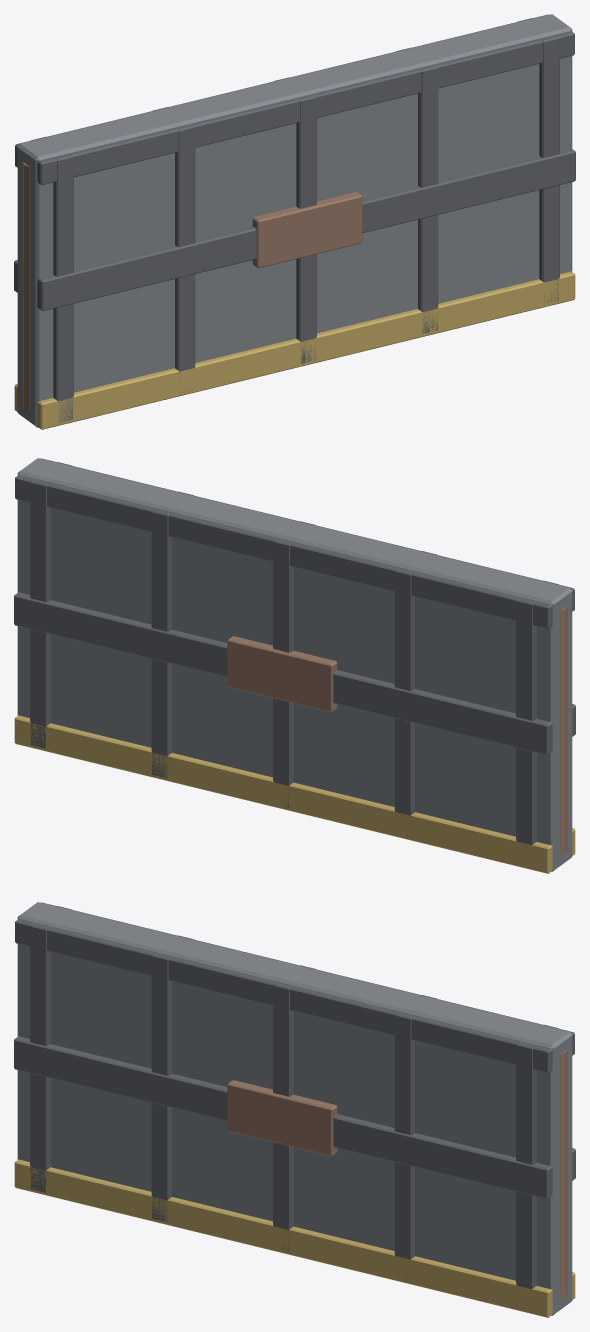
The model's file is oil_blastgate.glb.
The picture shows the model from 3 angles, top to bottom: view 1: azimuth 30°, elevation 25°; view 2: azimuth 150°, elevation 25°; view 3: azimuth 330°, elevation 25°; orthographic projection.
Visible parts, largest first — view 1: DoorCore, BottomBumper, CrossBarMid, CrossBarTop, LockPlate, Rib_-3.8, Rib_1.9, Rib_3.8, Rib_-1.9, Rib_0.0, Piston_-4.05; view 2: DoorCore, BottomBumper, CrossBarMid, CrossBarTop, LockPlate, Rib_3.8, Rib_1.9, Rib_-3.8, Rib_-1.9, Rib_0.0, Piston_-4.05; view 3: DoorCore, BottomBumper, CrossBarMid, CrossBarTop, LockPlate, Rib_-3.8, Rib_-1.9, Rib_3.8, Rib_1.9, Rib_0.0, Piston_4.05.
Part boxes in pixels (bbox=[...]): DoorCore: bbox=[17, 14, 572, 427]; BottomBumper: bbox=[14, 271, 575, 429]; CrossBarMid: bbox=[14, 148, 575, 311]; CrossBarTop: bbox=[15, 14, 574, 185]; LockPlate: bbox=[252, 192, 362, 268]; Rib_-3.8: bbox=[31, 136, 73, 422]; Rib_1.9: bbox=[396, 47, 438, 333]; Rib_3.8: bbox=[517, 18, 559, 304]; Rib_-1.9: bbox=[153, 107, 195, 390]; Rib_0.0: bbox=[274, 77, 316, 363]; Piston_-4.05: bbox=[22, 162, 29, 411]; DoorCore: bbox=[17, 458, 572, 871]; BottomBumper: bbox=[14, 715, 575, 873]; CrossBarMid: bbox=[14, 592, 575, 755]; CrossBarTop: bbox=[15, 458, 574, 629]; LockPlate: bbox=[227, 636, 337, 712]; Rib_3.8: bbox=[30, 462, 72, 748]; Rib_1.9: bbox=[151, 491, 193, 777]; Rib_-3.8: bbox=[516, 580, 558, 844]; Rib_-1.9: bbox=[394, 551, 436, 836]; Rib_0.0: bbox=[273, 521, 315, 807]; Piston_-4.05: bbox=[560, 606, 567, 855]; DoorCore: bbox=[17, 902, 572, 1315]; BottomBumper: bbox=[14, 1159, 575, 1317]; CrossBarMid: bbox=[14, 1036, 575, 1199]; CrossBarTop: bbox=[15, 902, 574, 1073]; LockPlate: bbox=[227, 1080, 337, 1156]; Rib_-3.8: bbox=[30, 906, 72, 1192]; Rib_-1.9: bbox=[151, 935, 193, 1221]; Rib_3.8: bbox=[516, 1024, 558, 1288]; Rib_1.9: bbox=[394, 995, 436, 1280]; Rib_0.0: bbox=[273, 965, 315, 1251]; Piston_4.05: bbox=[560, 1050, 567, 1299].
Size of the model in its own units: 8.46 by 4.05 by 0.84.
